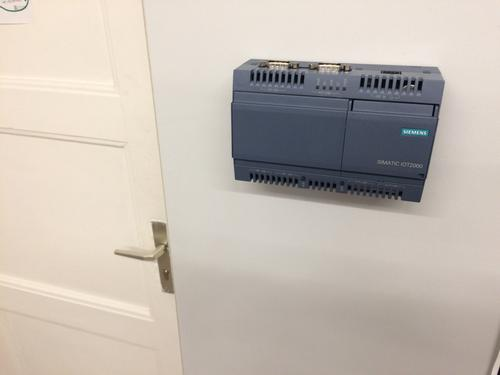iot2000: (230, 58, 445, 203)
